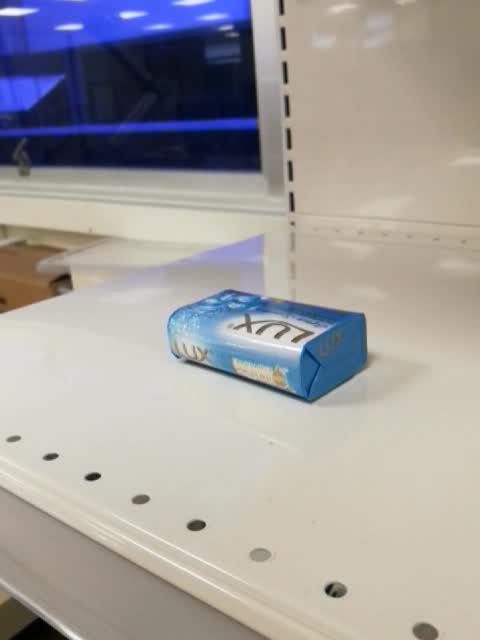soap: (166, 288, 369, 406)
